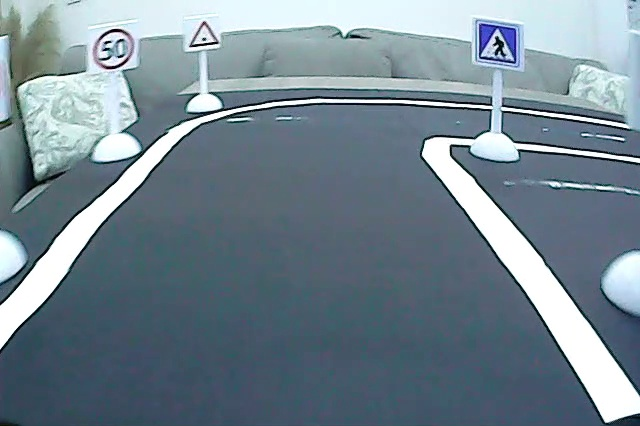green light: (189, 18, 221, 50)
pedestrian crossing: (475, 17, 521, 67)
speed limit 50: (91, 25, 138, 73)
